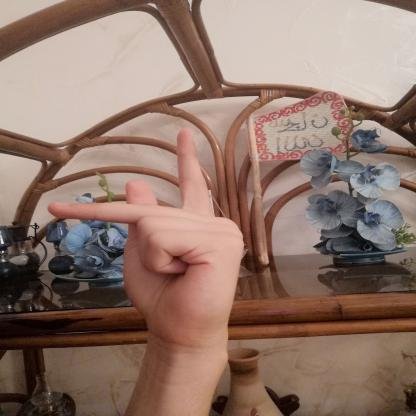DHAA: (37, 120, 258, 353)
